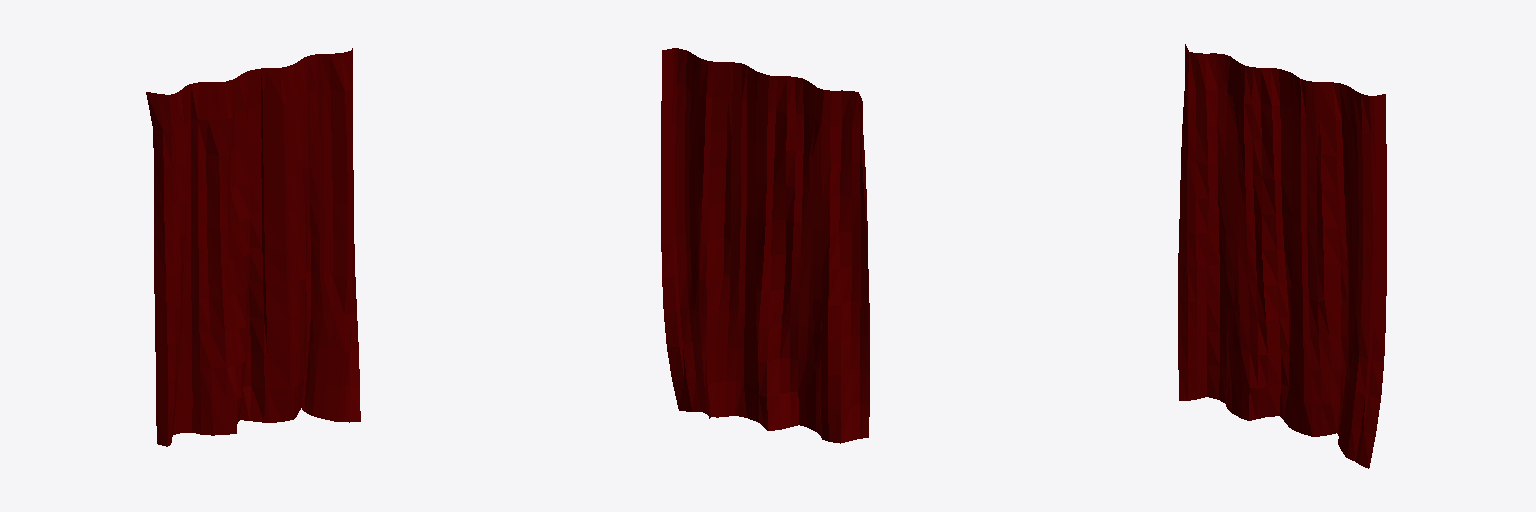
The model's file is Carpet.obj.
The picture shows the model from 3 angles: view 1: azimuth 30°, elevation 25°; view 2: azimuth 150°, elevation 25°; view 3: azimuth 330°, elevation 25°; orthographic projection.
Parts seen in each view (by area): view 1: carpet; view 2: carpet; view 3: carpet.
Part boxes in pixels (bbox=[...]): carpet: bbox=[146, 48, 360, 446]; carpet: bbox=[661, 48, 869, 443]; carpet: bbox=[1178, 44, 1386, 468].
Size of the model in its own units: 17.58 by 30.11 by 2.29.